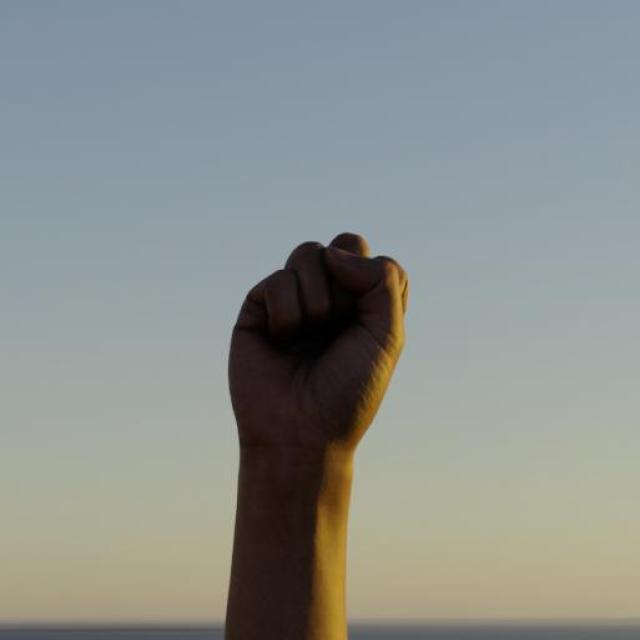S: (224, 230, 414, 462)
